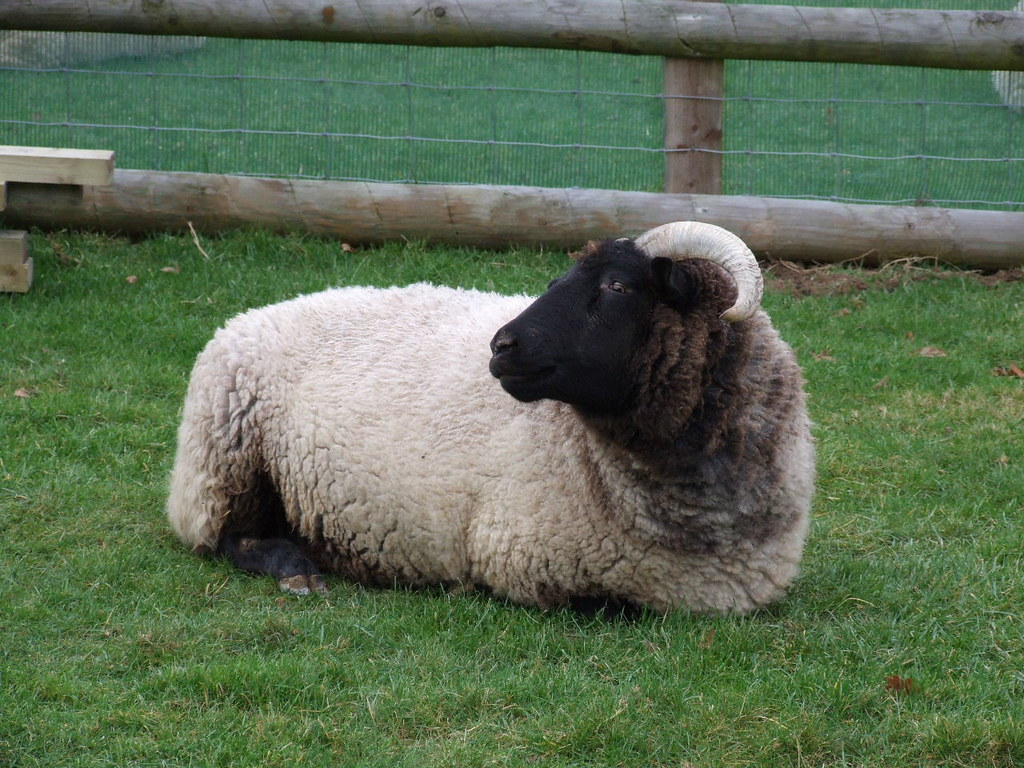sheep: (174, 219, 844, 651)
